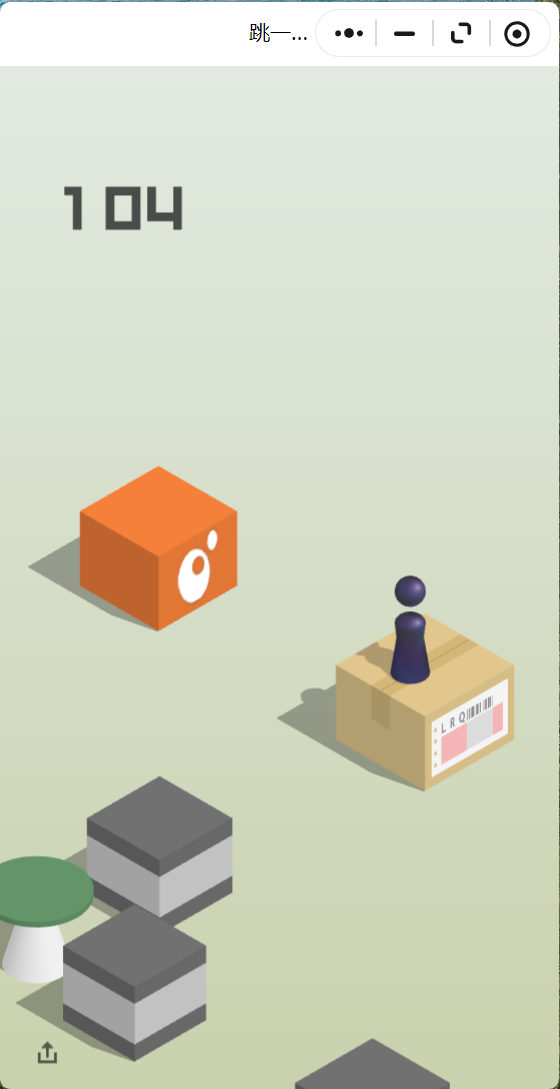piece: (395, 576, 425, 679)
target: (80, 467, 238, 555)
